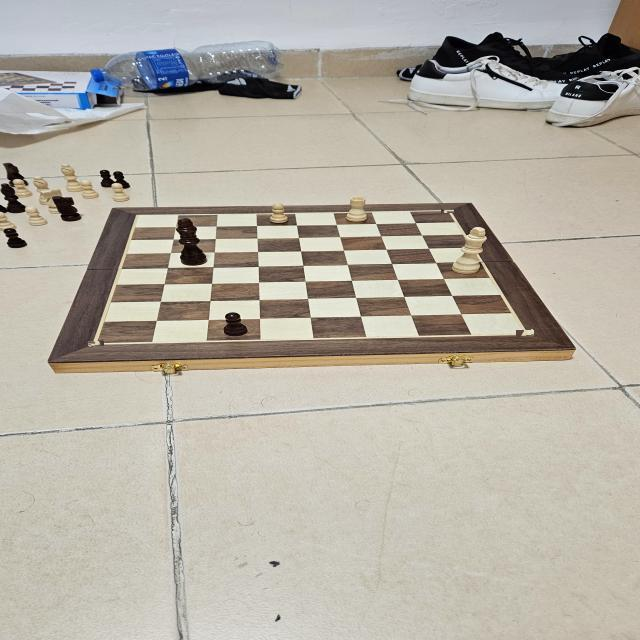chess-table-corners: (516, 330, 534, 338), (88, 340, 104, 347), (441, 209, 454, 213), (132, 213, 143, 217)
